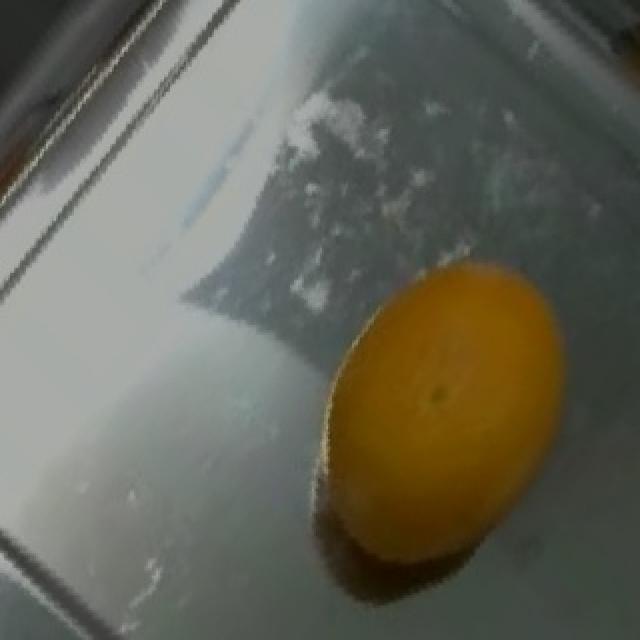Fruit: (294, 226, 594, 600)
